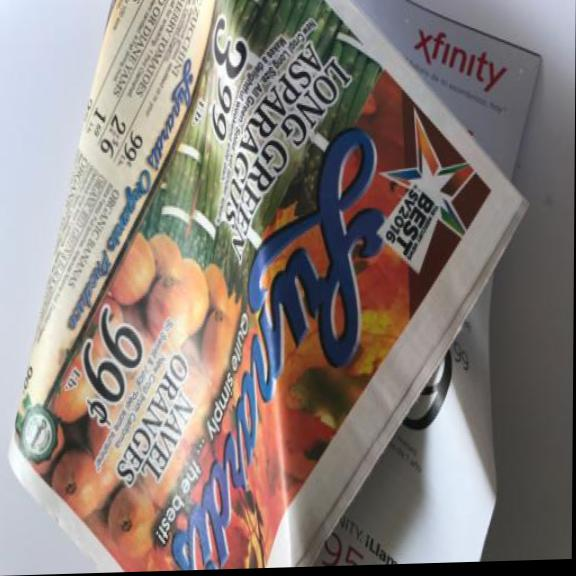Kertas: (15, 0, 550, 575)
